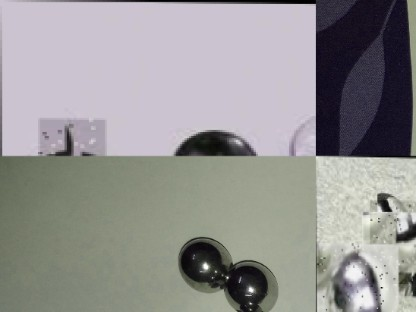ironball: (316, 242, 398, 311), (171, 229, 233, 295), (369, 199, 415, 284), (227, 251, 281, 310), (38, 118, 105, 156)
